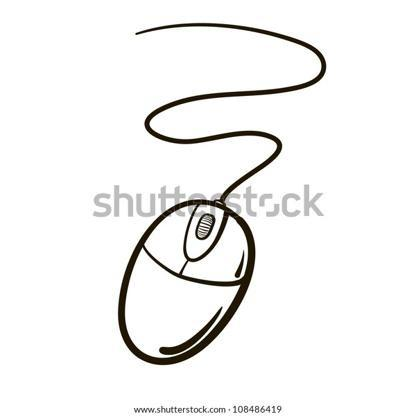not trash: (117, 201, 252, 360)
